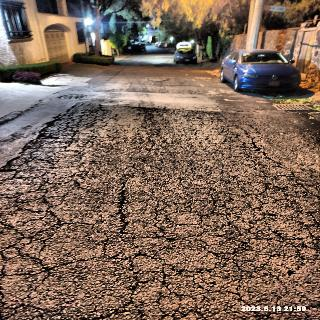alligator-crack: (127, 171, 320, 319), (0, 104, 116, 320), (133, 106, 291, 187)
crack: (115, 182, 129, 235)
